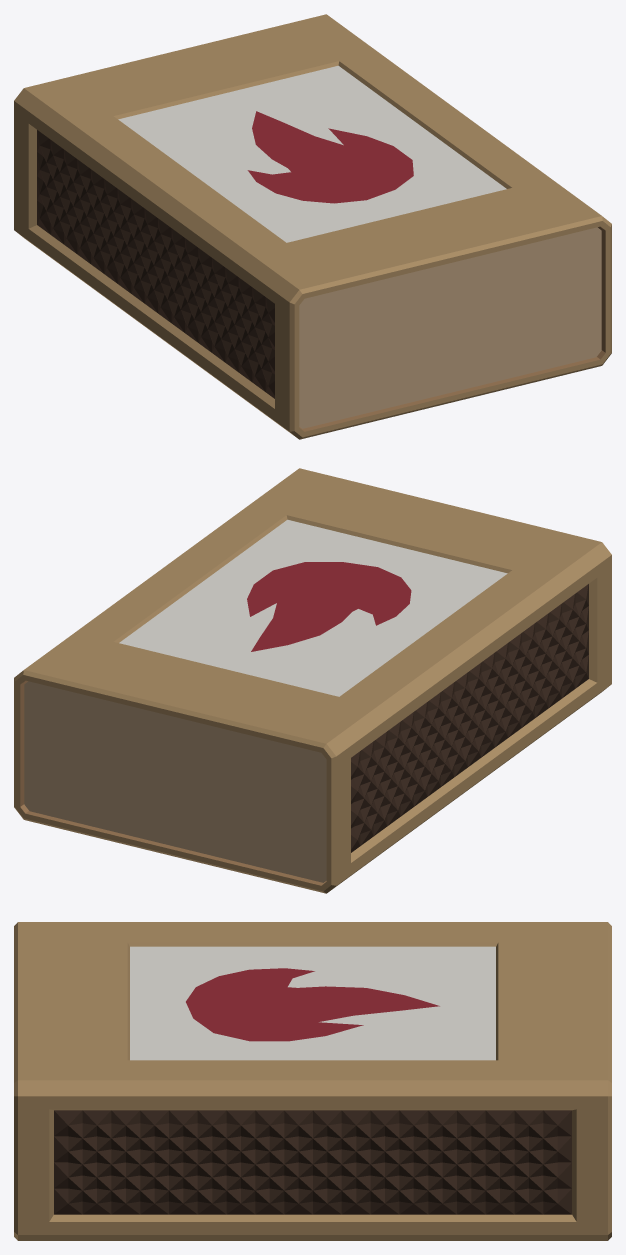
The model's file is matchbox-house-2d2689.glb.
The picture shows the model from 3 angles, top to bottom: view 1: azimuth 30°, elevation 25°; view 2: azimuth 150°, elevation 25°; view 3: azimuth 270°, elevation 25°; orthographic projection. The views are drawn at different scales.
Parts seen in each view (by area): view 1: sleeve, tray-body; view 2: sleeve, tray-body; view 3: sleeve.
Part boxes in pixels (x1,y1,x2,y2): sleeve: (14, 14, 611, 439); tray-body: (299, 227, 601, 428); sleeve: (14, 468, 611, 893); tray-body: (24, 681, 326, 882); sleeve: (14, 922, 611, 1240).
Size of the model in its own units: 3.6 by 1.6 by 5.4.
